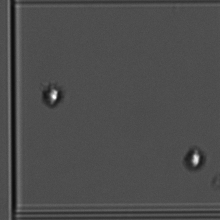Living Cell: (39, 80, 66, 108), (181, 143, 208, 171)
